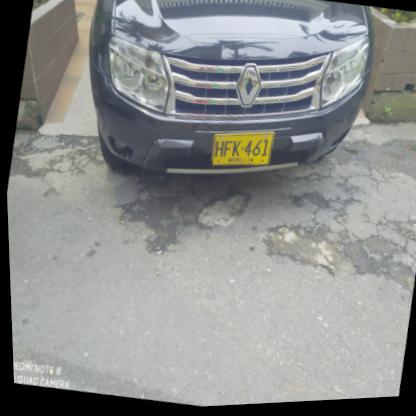placa: (204, 122, 275, 179)
